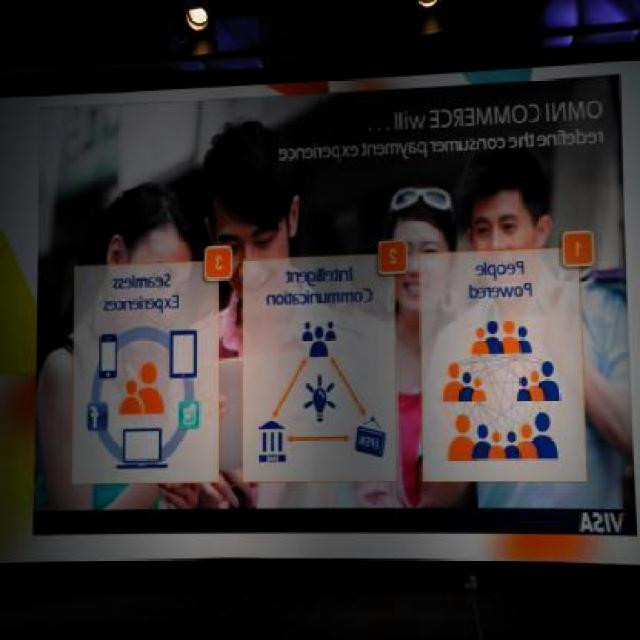face_nomask: (396, 242, 441, 301)
glasses: (387, 183, 455, 211)
